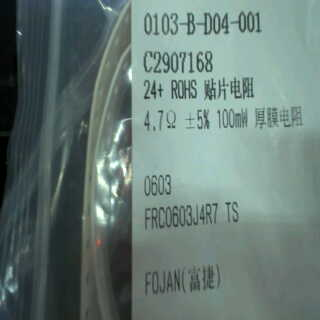4.7R: (143, 108, 180, 134)
